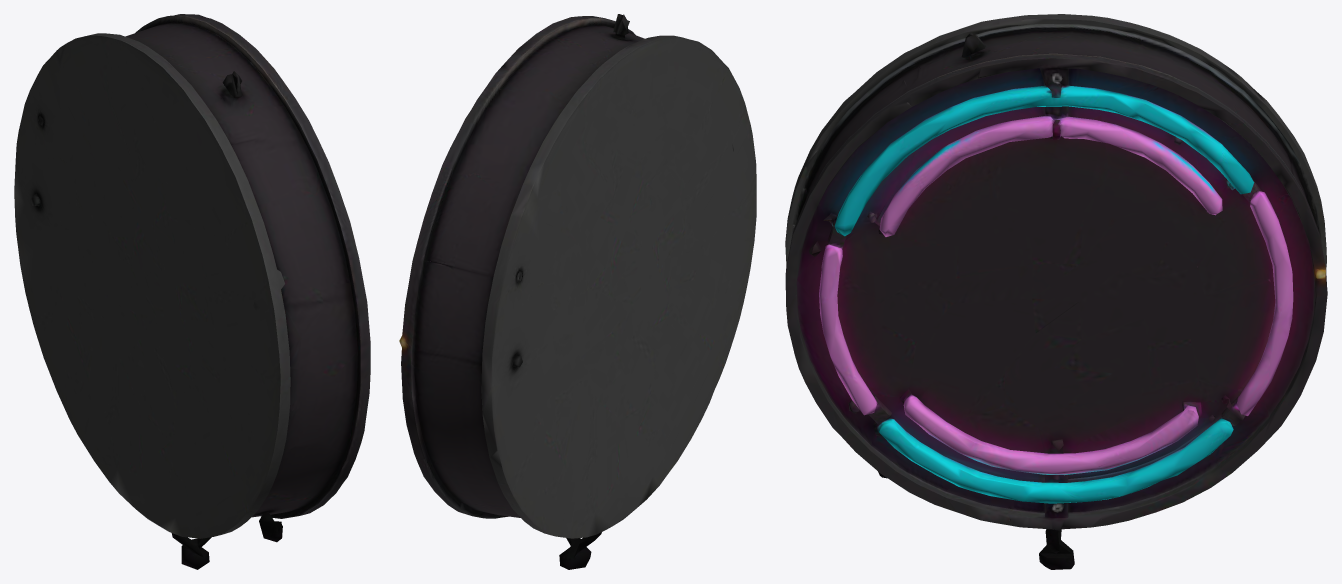
File: 03_profile_sign.glb
3 renders of one model, left to right at view 1: azimuth 30°, elevation 25°; view 2: azimuth 150°, elevation 25°; view 3: azimuth 270°, elevation 25°, orthographic.
Visible parts, largest first — view 1: tripo_node_a4544685-ffb3-46e6-a49e-c0dae342e326; view 2: tripo_node_a4544685-ffb3-46e6-a49e-c0dae342e326; view 3: tripo_node_a4544685-ffb3-46e6-a49e-c0dae342e326.
Boxes of the visible parts, box(x1,y1,x2,y2) form: tripo_node_a4544685-ffb3-46e6-a49e-c0dae342e326: box(14, 14, 370, 569); tripo_node_a4544685-ffb3-46e6-a49e-c0dae342e326: box(399, 14, 756, 569); tripo_node_a4544685-ffb3-46e6-a49e-c0dae342e326: box(785, 14, 1327, 569).
Bounding box in the file's own units: 0.1101 × 0.5 × 0.4634.
Materials: 1 (1 with a texture image).
